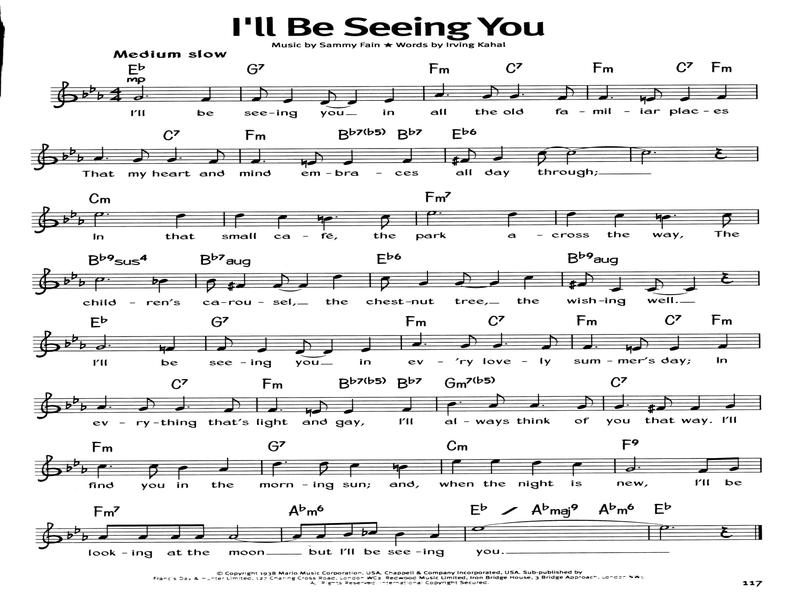B: (640, 149, 652, 165), (93, 211, 105, 226), (94, 276, 105, 292), (96, 334, 107, 350), (228, 524, 239, 540), (659, 524, 669, 541), (134, 85, 145, 100), (566, 150, 577, 165), (626, 457, 637, 472)
Bem: (78, 278, 86, 289), (80, 401, 88, 412), (69, 146, 77, 156), (70, 271, 78, 280), (89, 84, 96, 94), (63, 214, 70, 224), (70, 209, 77, 219), (78, 216, 85, 226), (72, 333, 79, 343), (80, 340, 87, 350), (65, 400, 72, 410), (73, 395, 80, 405), (361, 527, 368, 537), (66, 463, 73, 473), (73, 457, 80, 467), (81, 465, 88, 475), (67, 530, 74, 540), (82, 532, 89, 542), (98, 90, 104, 101), (152, 275, 158, 286), (65, 338, 71, 349), (62, 152, 69, 161), (74, 525, 81, 534), (78, 153, 84, 163), (82, 90, 88, 99), (64, 277, 70, 286)
C: (557, 84, 575, 101), (488, 392, 506, 409), (320, 89, 337, 106), (542, 334, 559, 351), (224, 397, 241, 414), (252, 86, 269, 102), (461, 147, 477, 164), (209, 148, 226, 164), (273, 272, 289, 289), (295, 338, 312, 354), (657, 394, 673, 411), (482, 84, 500, 99), (454, 271, 472, 286), (460, 334, 478, 349), (578, 271, 594, 287), (218, 335, 234, 351), (633, 336, 649, 352), (133, 148, 150, 163), (577, 395, 594, 410), (647, 87, 663, 102), (308, 151, 324, 166), (648, 277, 664, 292), (312, 400, 328, 415), (292, 523, 307, 539), (98, 524, 113, 540), (139, 397, 156, 411), (316, 522, 330, 539), (138, 524, 152, 540), (171, 523, 184, 540), (699, 457, 711, 474), (537, 150, 548, 167), (380, 213, 391, 230), (721, 212, 732, 229), (380, 275, 391, 292), (148, 463, 159, 480), (194, 523, 205, 540), (205, 278, 217, 293), (344, 522, 356, 537), (318, 461, 329, 477), (729, 456, 740, 472), (369, 521, 378, 535)
CS: (32, 143, 59, 171), (35, 391, 62, 419), (33, 205, 59, 234), (34, 267, 60, 296), (35, 330, 61, 359), (37, 454, 63, 483), (37, 521, 63, 550), (53, 80, 78, 109)
N: (267, 396, 279, 413), (323, 338, 335, 355), (360, 336, 372, 353), (716, 83, 728, 100), (726, 392, 737, 410), (429, 523, 441, 539), (96, 463, 108, 479), (271, 461, 283, 477), (175, 213, 187, 229), (234, 212, 246, 228), (219, 456, 230, 473), (451, 458, 462, 475), (490, 458, 501, 475), (572, 461, 583, 478), (402, 396, 413, 413), (96, 394, 107, 411), (418, 270, 429, 287), (332, 274, 343, 291), (402, 147, 413, 164), (343, 149, 354, 166), (283, 87, 294, 104), (598, 84, 609, 101), (166, 334, 176, 352), (394, 531, 405, 547), (349, 462, 360, 478), (531, 460, 542, 476), (529, 393, 540, 409), (343, 398, 354, 414), (175, 395, 186, 411), (257, 337, 268, 353), (412, 331, 423, 347), (718, 333, 729, 349), (685, 276, 696, 292), (298, 272, 309, 288), (507, 211, 518, 227), (566, 211, 577, 227), (614, 212, 625, 228), (493, 145, 504, 161), (167, 146, 178, 162), (201, 86, 212, 102), (384, 87, 395, 103), (434, 82, 445, 98), (509, 83, 520, 99), (680, 86, 691, 102), (691, 394, 701, 411), (493, 332, 503, 349), (583, 333, 593, 350), (612, 276, 622, 293), (348, 89, 358, 106), (177, 465, 188, 480), (446, 401, 457, 416), (523, 275, 534, 290), (490, 270, 501, 285), (277, 214, 288, 229), (93, 146, 104, 161), (615, 394, 625, 410), (670, 335, 680, 351), (661, 214, 671, 230), (399, 464, 409, 479), (158, 278, 168, 293), (323, 216, 333, 231), (252, 148, 262, 163), (237, 273, 246, 289)
P: (446, 93, 450, 97), (438, 211, 442, 215), (594, 345, 598, 349), (262, 160, 267, 163), (458, 401, 463, 404), (179, 157, 183, 160), (105, 157, 109, 160), (335, 215, 339, 218), (673, 214, 677, 217), (504, 342, 508, 345), (424, 343, 428, 346), (107, 278, 111, 281), (108, 344, 112, 347), (637, 466, 641, 469), (541, 404, 545, 407), (187, 405, 191, 408), (109, 406, 113, 409), (109, 465, 113, 468), (672, 526, 676, 529), (146, 95, 149, 98), (522, 93, 525, 96), (611, 96, 614, 99), (654, 151, 657, 154), (107, 213, 110, 216), (626, 404, 630, 406), (284, 461, 288, 463), (280, 409, 283, 411)
R: (471, 525, 486, 532)
SOS: (647, 403, 656, 414), (451, 155, 459, 166), (569, 279, 577, 290), (227, 281, 235, 292)
